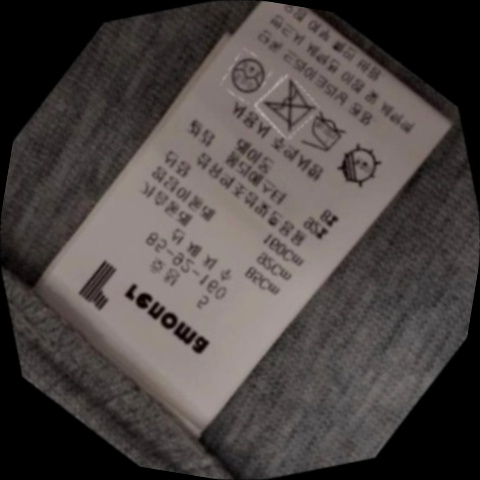DN_wash: (246, 67, 328, 145)
dry_clean_petrol_only: (213, 41, 279, 107)
iron_low: (288, 100, 361, 169)
line_dry_in_shade: (317, 130, 395, 204)
